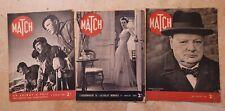paper: (8, 8, 221, 101)
